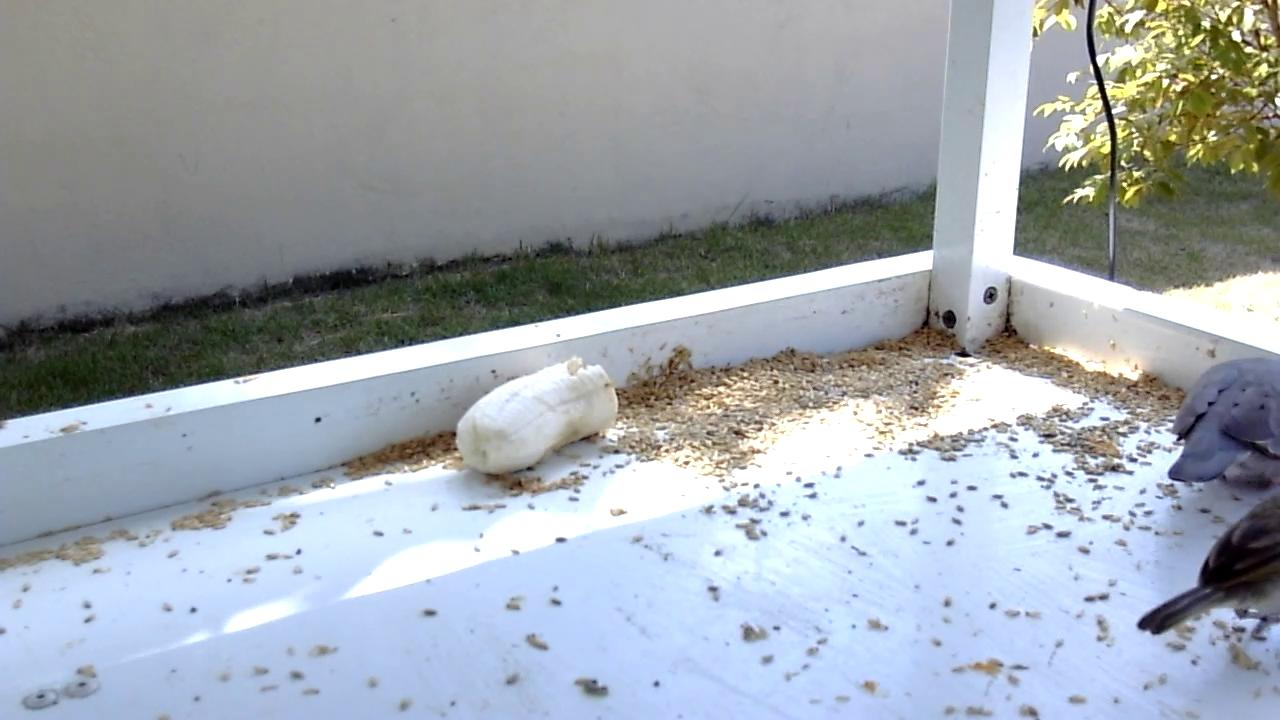canario_do_amazonas: (1131, 495, 1280, 643)
rolinha: (1158, 354, 1280, 488)
